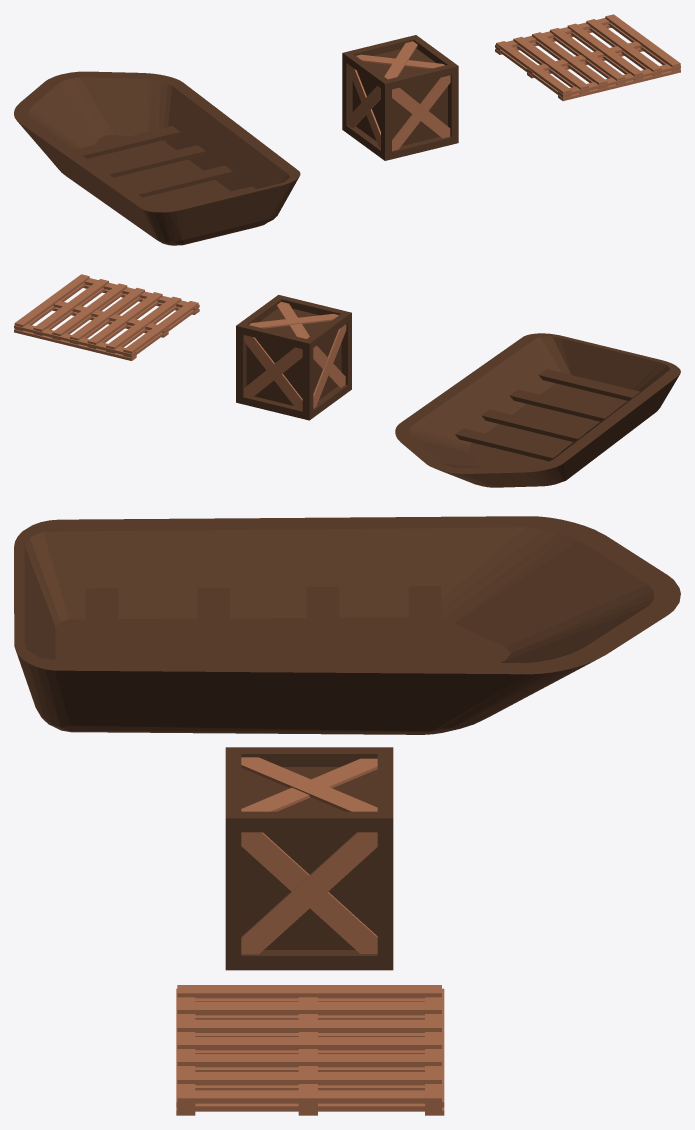
Rendered from water_platforms.glb.
The picture shows the model from 3 angles, top to bottom: view 1: azimuth 30°, elevation 25°; view 2: azimuth 150°, elevation 25°; view 3: azimuth 270°, elevation 25°; orthographic projection. The views are drawn at different scales.
Visible parts, largest first — view 1: Cube.002, Cube.001, Cube.016; view 2: Cube.002, Cube.001, Cube.016; view 3: Cube.002, Cube.001, Cube.016.
Part boxes in pixels (x1=…): Cube.002: x1=14, y1=71, x2=300, y2=245; Cube.001: x1=342, y1=35, x2=458, y2=160; Cube.016: x1=495, y1=14, x2=680, y2=100; Cube.002: x1=395, y1=333, x2=680, y2=487; Cube.001: x1=236, y1=295, x2=351, y2=420; Cube.016: x1=14, y1=274, x2=199, y2=360; Cube.002: x1=14, y1=516, x2=680, y2=734; Cube.001: x1=225, y1=747, x2=393, y2=970; Cube.016: x1=176, y1=985, x2=444, y2=1115.
Size of the model in its own units: 23.21 by 2.99 by 11.86.
